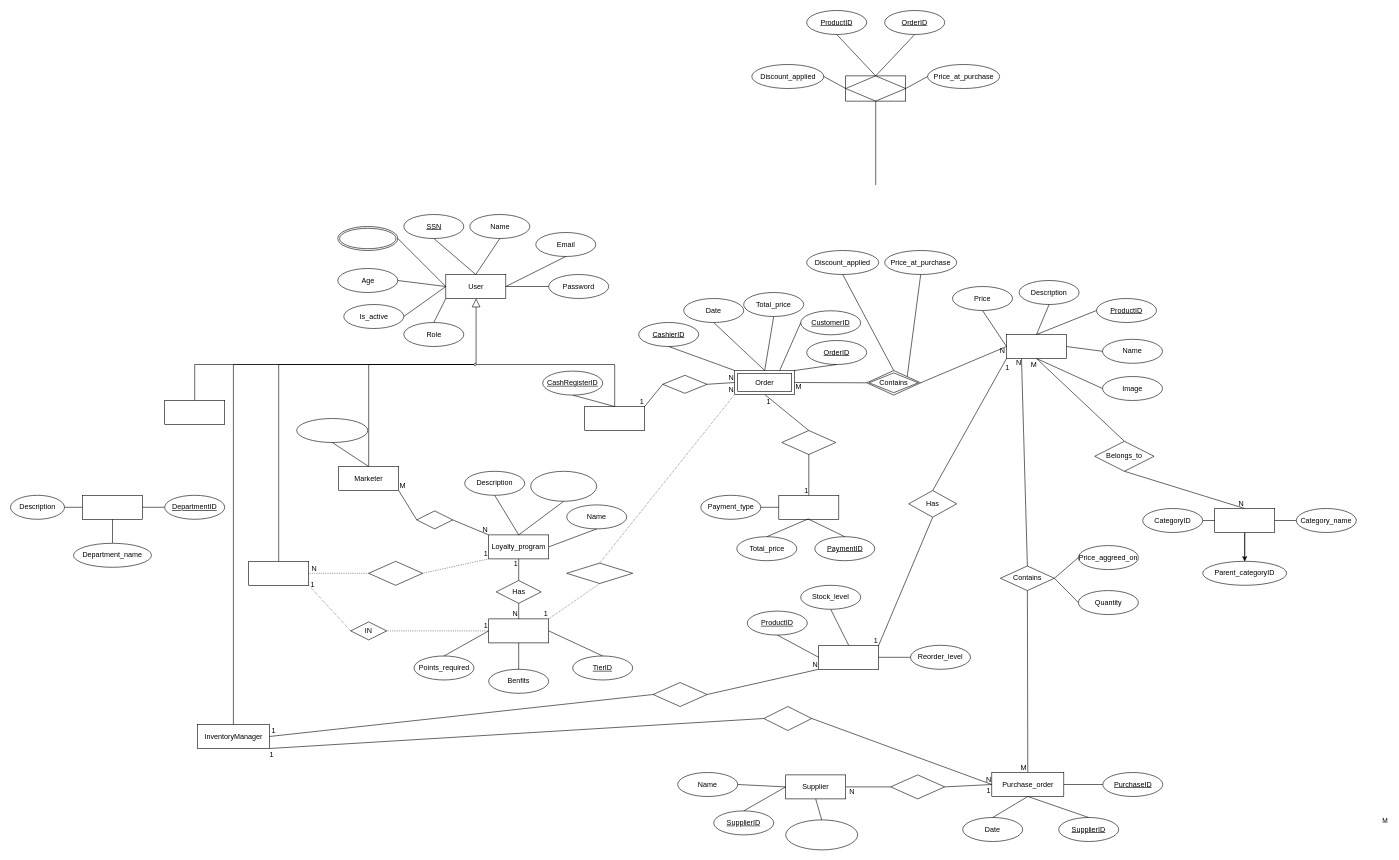
Image size: 1399x860. Some labels were removed from this diagram. Each missing label, with the centre of its shape:
Address: (x=367, y=238)
Admin: (x=194, y=412)
Apply_benfits: (x=599, y=573)
Campaign_channel: (x=332, y=430)
Cashier: (x=614, y=418)
Category: (x=1244, y=520)
Contact_information: (x=821, y=834)
Customer: (x=278, y=573)
Department: (x=112, y=507)
Initiates: (x=787, y=718)
Inventory_record: (x=848, y=657)
LoyaltyProgramID: (x=563, y=486)
Loyaly_tier: (x=518, y=630)
Make: (x=434, y=519)
Makes: (x=684, y=384)
Manage: (x=679, y=694)
Member_of: (x=395, y=573)
Order_from: (x=917, y=786)
Order_items: (x=875, y=88)
Payment: (x=808, y=507)
Pays_for: (x=808, y=442)
Product: (x=1036, y=346)
